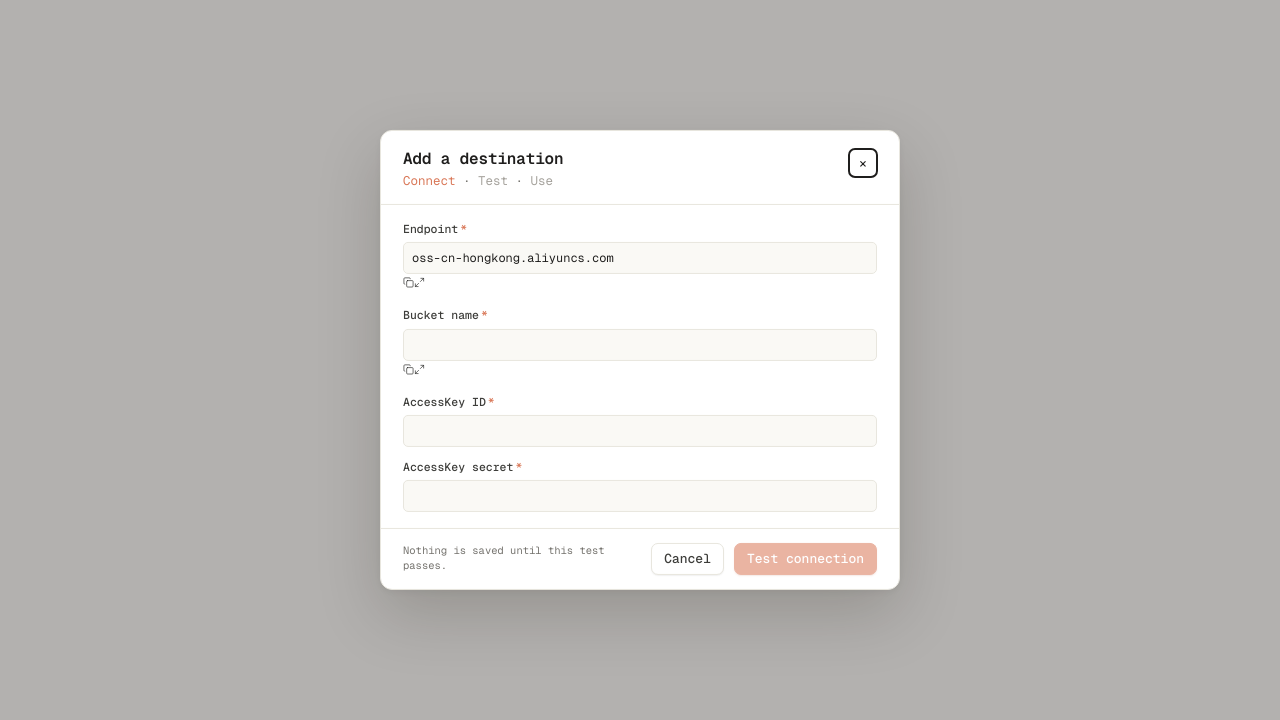
it: AddDestinationDialog › names a wrong secret as a signature problem and says nothing was saved
Clear the field labelled "oss-cn-hongkong.aliyuncs.com": (640, 258) [403,242,877,274]
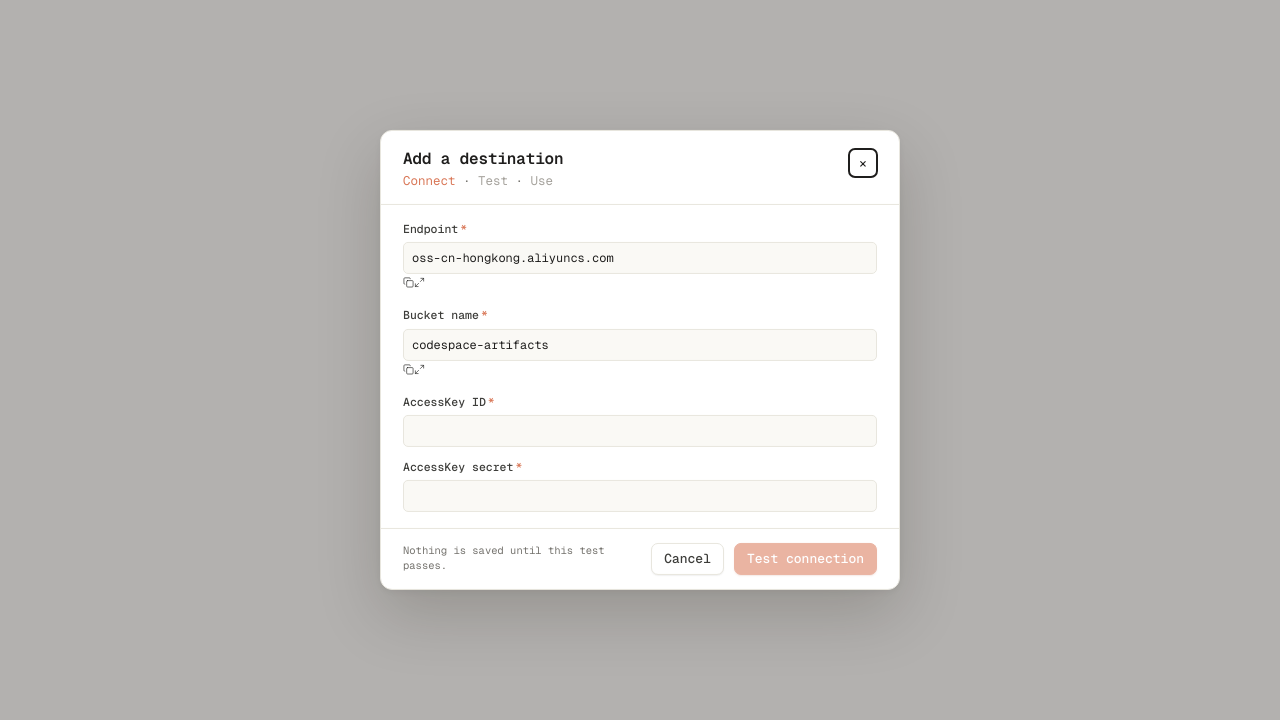
In the password field named "AccessKey ID": (640, 431) [403,415,877,447], type "LTAI5tExample"
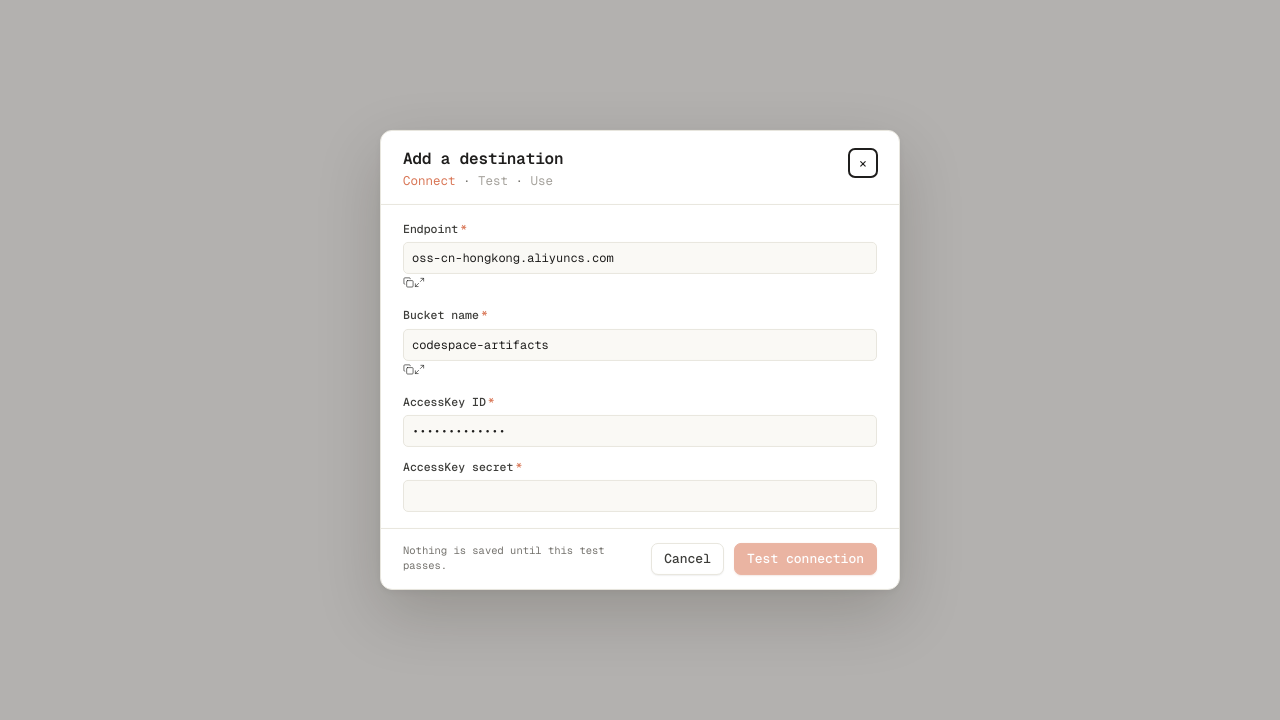
In the password field named "AccessKey secret": (640, 496) [403,480,877,512], type "secret-value"
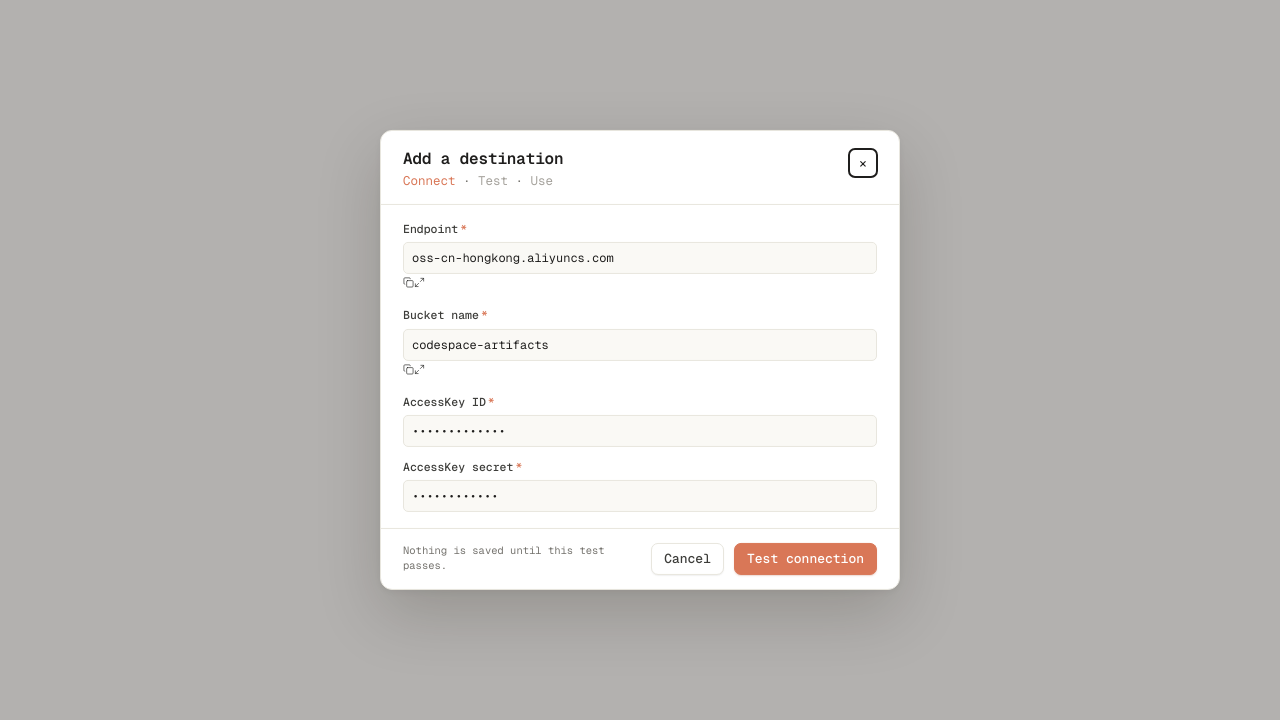
Click the button "Test connection": (806, 559) [734,543,877,575]
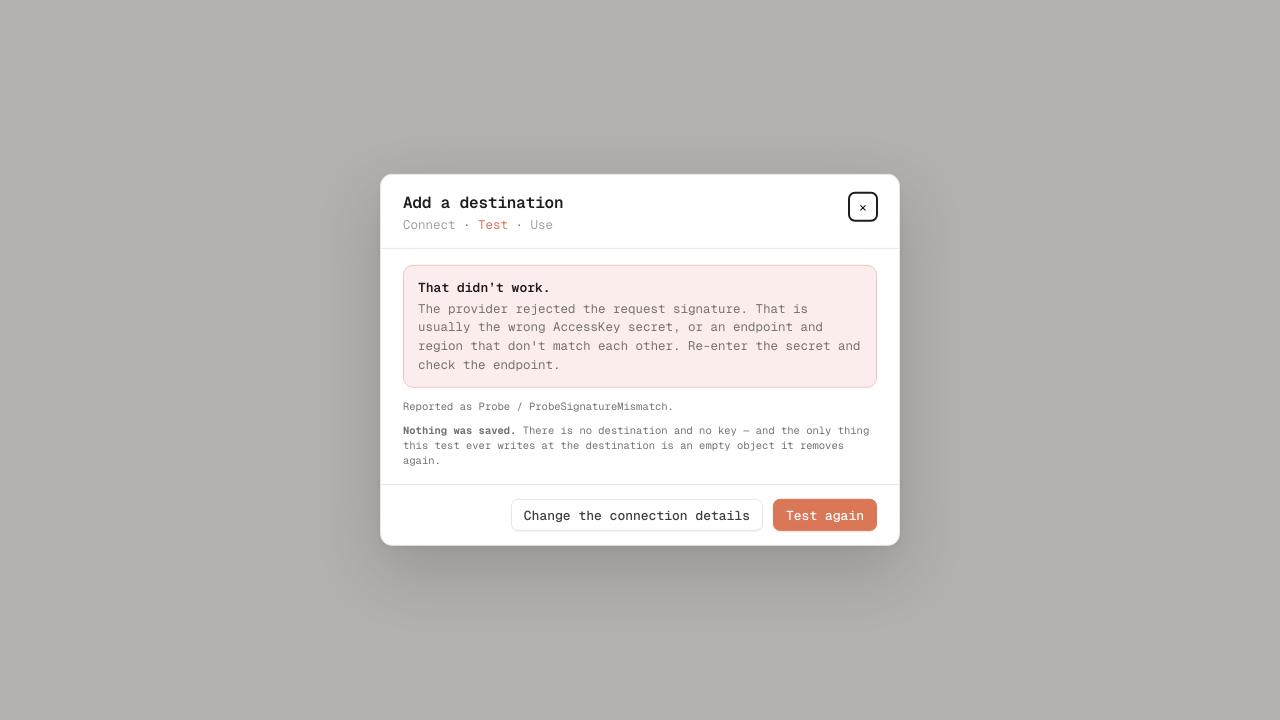
Expected: the text "rejected the request signature" is shown, [418,299,860,373]
Expected: the text "Reported as Probe / ProbeSignatureMismatch." is shown, [403,399,674,413]
Expected: the text "Nothing was saved." is shown, [403,424,516,438]
